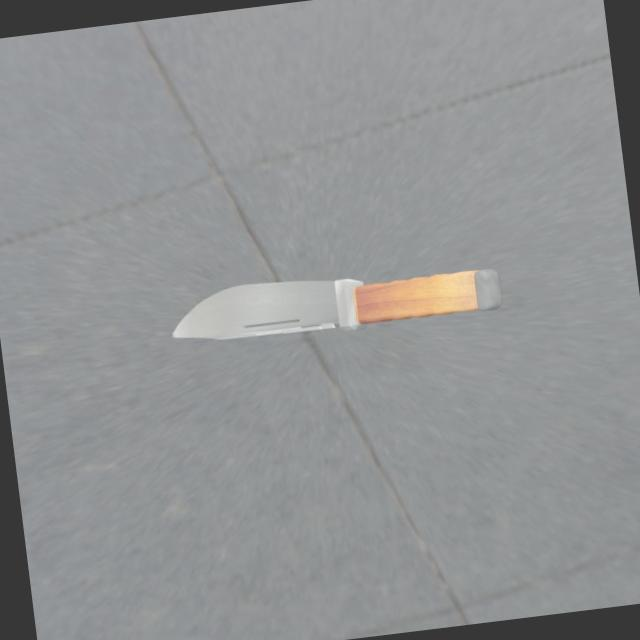knife: (338, 268, 470, 329)
